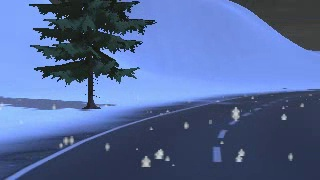Lane: (5, 90, 319, 179)
